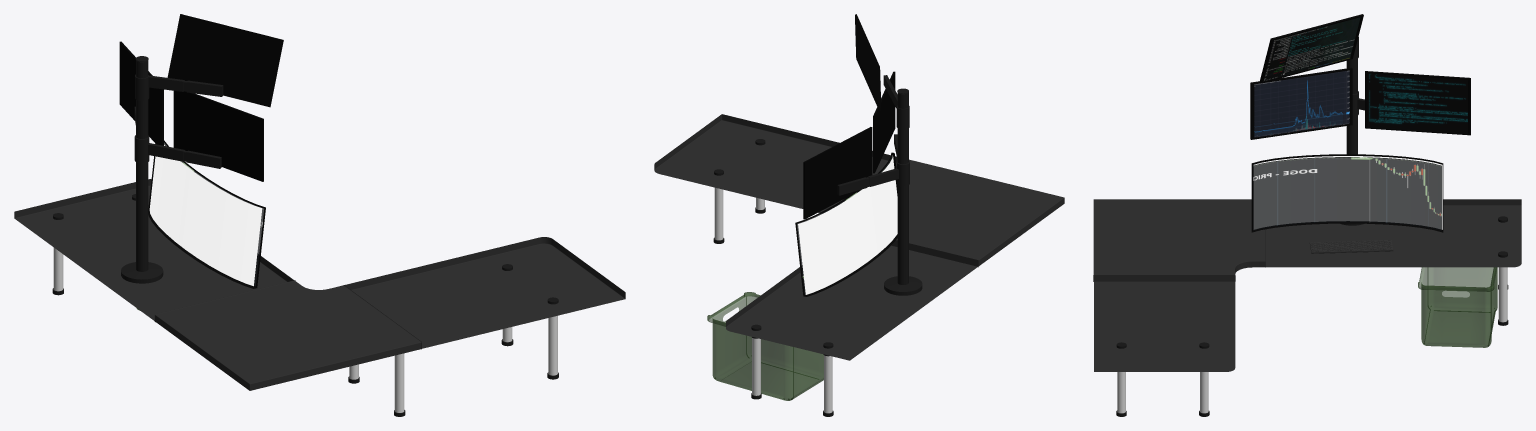
File: desk.glb
3 views of the same model, side by side, from view 1: azimuth 30°, elevation 25°; view 2: azimuth 150°, elevation 25°; view 3: azimuth 270°, elevation 25° (orthographic). The views are drawn at different scales.
Parts seen in each view (by area): view 1: Slice.002, Cylinder.061, Plane.077, Plane.076, Cylinder.064, Plane.006, Cube.144, Cube.105, Cylinder.113, Cylinder.114, Cylinder.116; view 2: Slice.002, Cylinder.061, Cube.034, Plane.006, Cylinder.064, Plane.076, Plane.077, Cube.104, Cylinder.116, Cylinder.117, Cylinder.063; view 3: Slice.002, Cylinder.061, Plane.006, Cube.034, Plane.076, Plane.077, Cube.007, Cylinder.064, Cylinder.117, Cylinder.063, Cylinder.113.
Part boxes in pixels (x1,y1,x2,y2): Slice.002: (14, 179, 625, 390); Cylinder.061: (148, 140, 265, 288); Plane.077: (167, 14, 283, 107); Plane.076: (173, 91, 263, 181); Cylinder.064: (121, 56, 163, 283); Plane.006: (119, 41, 163, 145); Cube.144: (148, 75, 223, 96); Cube.105: (148, 143, 221, 168); Cylinder.113: (547, 297, 558, 379); Cylinder.114: (394, 353, 405, 416); Cylinder.116: (52, 213, 63, 295); Slice.002: (654, 114, 1064, 360); Cylinder.061: (795, 152, 897, 296); Cube.034: (707, 292, 823, 400); Plane.006: (803, 127, 872, 219); Cylinder.064: (884, 88, 922, 295); Plane.076: (873, 71, 895, 173); Plane.077: (855, 14, 881, 111); Cube.104: (837, 168, 898, 195); Cylinder.116: (823, 342, 833, 416); Cylinder.117: (751, 324, 761, 399); Cylinder.063: (713, 169, 724, 243); Slice.002: (1093, 199, 1521, 371); Cylinder.061: (1251, 154, 1443, 232); Plane.006: (1365, 71, 1470, 135); Cube.034: (1418, 267, 1497, 347); Plane.076: (1250, 67, 1352, 139); Plane.077: (1259, 14, 1363, 83); Cube.007: (1309, 240, 1393, 253); Cylinder.064: (1340, 37, 1364, 225); Cylinder.117: (1498, 251, 1508, 325); Cylinder.063: (1199, 342, 1209, 416); Cylinder.113: (1116, 342, 1126, 416).
Bounding box in the file's own units: 4.04 × 3.34 × 4.38.
Materials: 28 (4 with a texture image).
